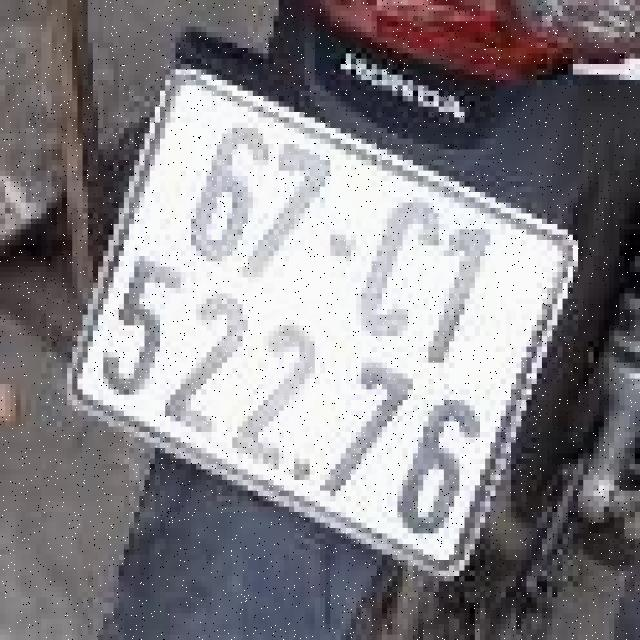1: (410, 213, 506, 386)
2: (217, 309, 343, 484), (150, 281, 274, 452)
5: (85, 245, 195, 412)
6: (381, 382, 511, 553), (171, 112, 291, 279)
7: (298, 345, 432, 512), (226, 133, 351, 302)
C: (341, 188, 461, 352)
